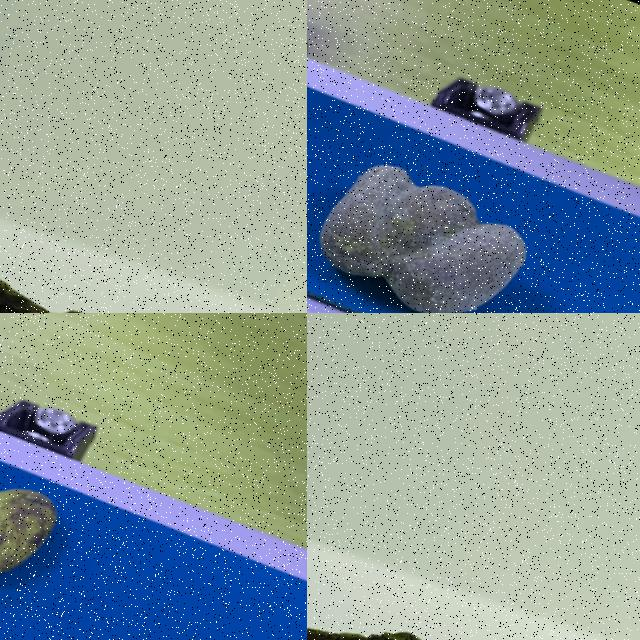Agglomerated_cocoabeans: (307, 108, 625, 312)
Fine_cocoabeans: (0, 410, 131, 639)
Flat_cocoabeans: (307, 484, 583, 639), (0, 198, 177, 312)
